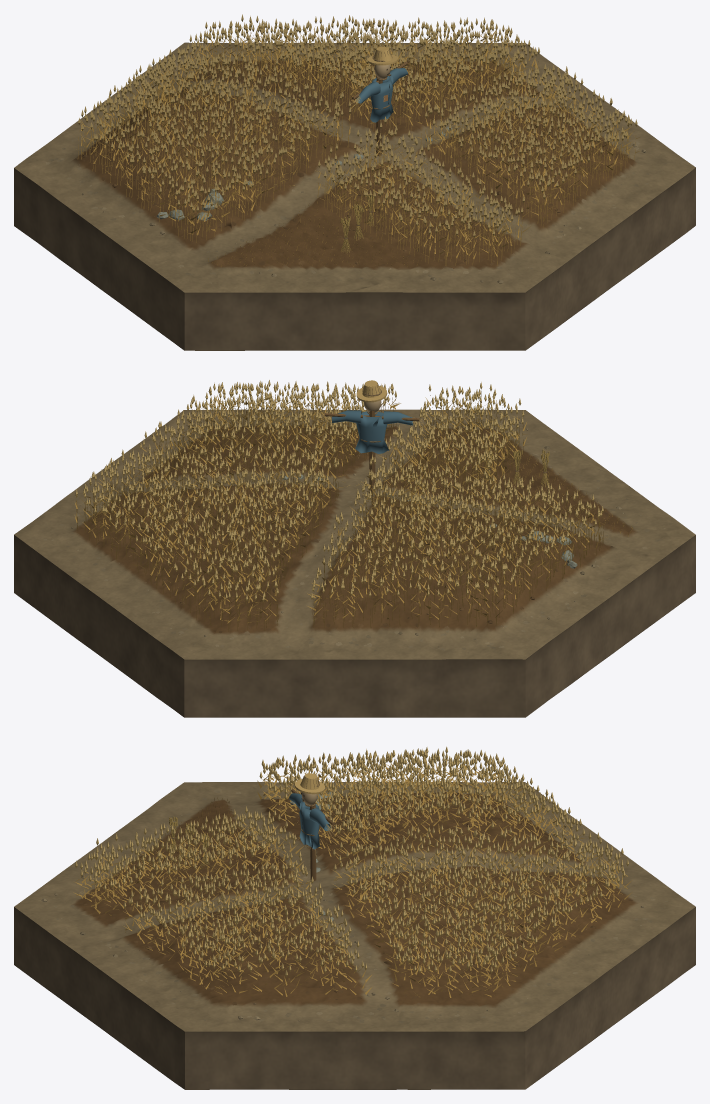
The model's file is Grain.glb.
The picture shows the model from 3 angles, top to bottom: view 1: azimuth 30°, elevation 25°; view 2: azimuth 150°, elevation 25°; view 3: azimuth 270°, elevation 25°; orthographic projection.
Visible parts, largest first — view 1: Grain_Ground_Web, Grain_Decorations_Web, Ground_Aggregates; view 2: Grain_Ground_Web, Grain_Decorations_Web, Ground_Aggregates; view 3: Grain_Ground_Web, Grain_Decorations_Web, Ground_Aggregates.
Boxes of the visible parts, x1=… form: Grain_Ground_Web: x1=14, y1=42, x2=695, y2=350; Grain_Decorations_Web: x1=76, y1=14, x2=639, y2=266; Ground_Aggregates: x1=82, y1=51, x2=646, y2=283; Grain_Ground_Web: x1=14, y1=409, x2=695, y2=717; Grain_Decorations_Web: x1=74, y1=380, x2=632, y2=631; Ground_Aggregates: x1=71, y1=419, x2=624, y2=644; Grain_Ground_Web: x1=14, y1=782, x2=695, y2=1089; Grain_Decorations_Web: x1=73, y1=746, x2=632, y2=997; Ground_Aggregates: x1=41, y1=789, x2=662, y2=1021.
Bounding box in the file's own units: 1.65 × 0.5946 × 1.91.
Materials: 17 (17 with a texture image).
